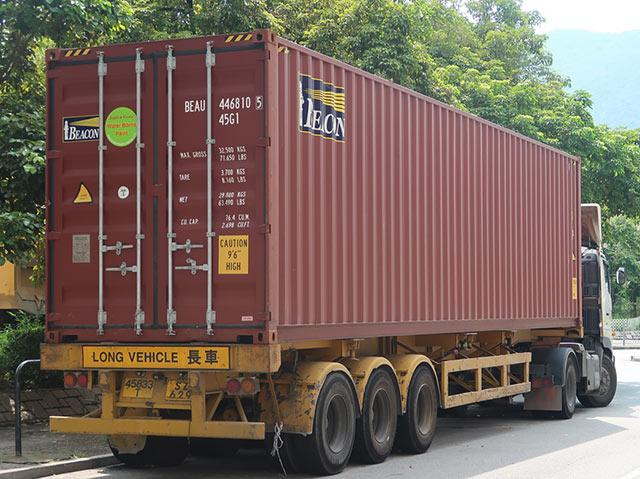ContainerNum: (182, 94, 264, 127)
